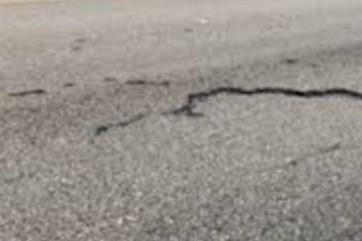crack: (20, 72, 360, 140)
